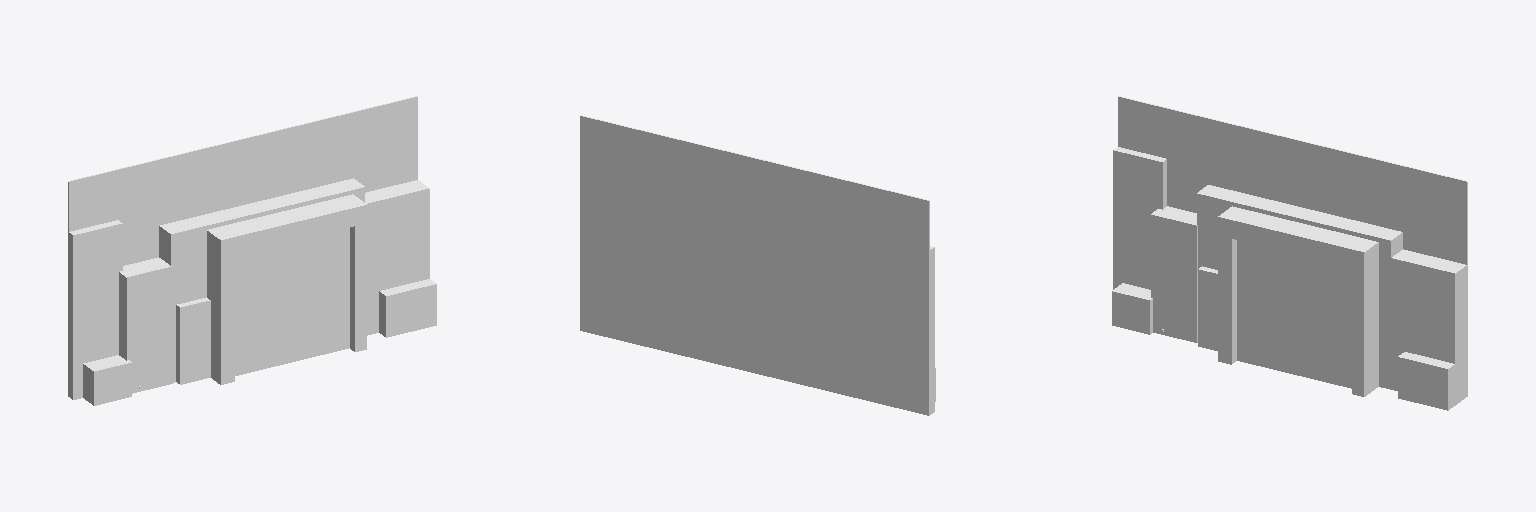
File: PuertaCueva.obj
The picture shows the model from 3 angles: view 1: azimuth 30°, elevation 25°; view 2: azimuth 150°, elevation 25°; view 3: azimuth 330°, elevation 25°; orthographic projection.
Visible parts, largest first — view 1: object 1; view 2: object 1; view 3: object 1.
Boxes of the visible parts, x1,y1,x2,y2 form: object 1: [68, 96, 436, 405]; object 1: [580, 115, 935, 415]; object 1: [1112, 96, 1467, 410].
Size of the model in its own units: 25.5 by 15 by 3.4.